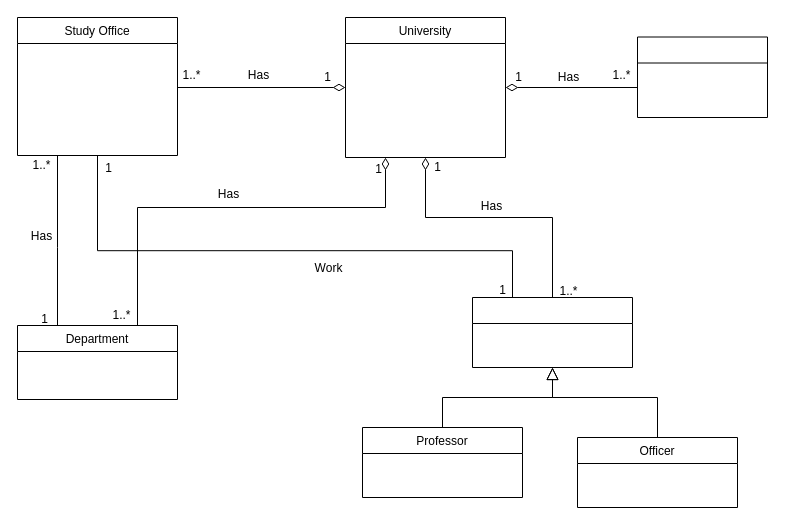
The diagram is 785 pixels wide and 525 high, and some of its shapes have lost their labels. The centre of each missing label's shape, as x and y in pixels:
Employee: [552,332]
Lecture Class: [702,77]
